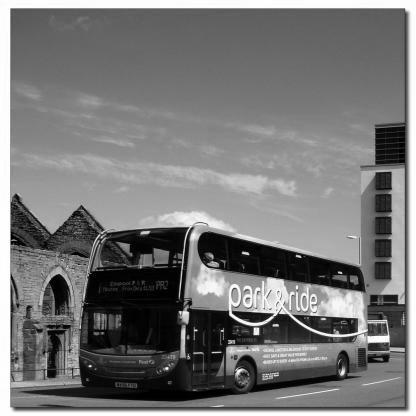bus: (74, 214, 376, 409)
